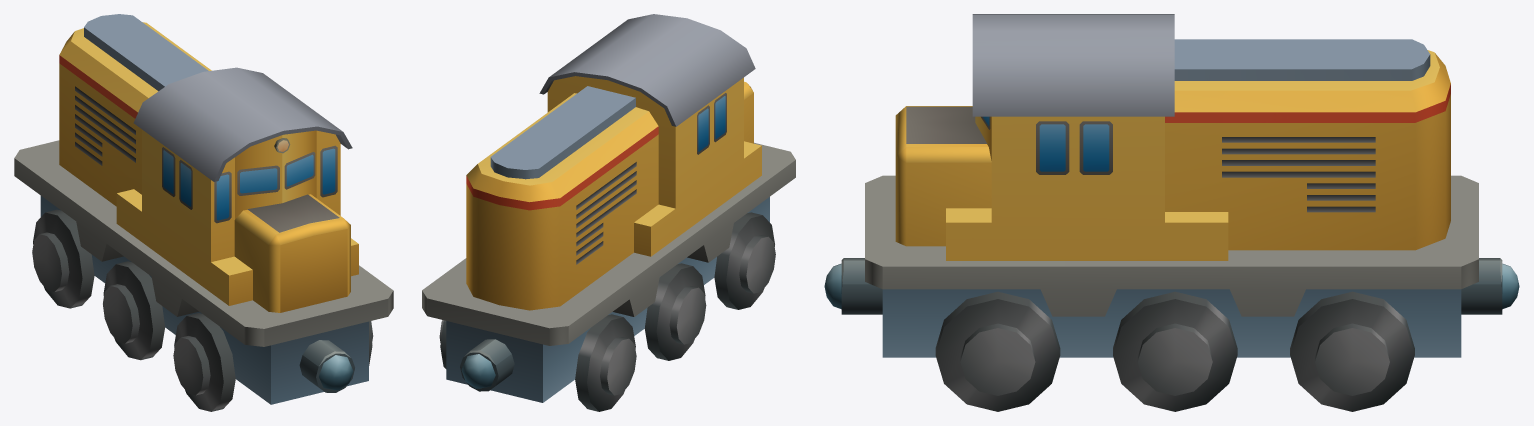
The model's file is Electric_Locomotive_C.fbx.
3 renders of one model, left to right at view 1: azimuth 30°, elevation 25°; view 2: azimuth 150°, elevation 25°; view 3: azimuth 270°, elevation 25°, orthographic. The views are drawn at different scales.
Parts seen in each view (by area): view 1: Electric_Locomotive_C; view 2: Electric_Locomotive_C; view 3: Electric_Locomotive_C.
Part boxes in pixels (x1,y1,x2,y2): Electric_Locomotive_C: (14, 14, 393, 411); Electric_Locomotive_C: (422, 14, 795, 411); Electric_Locomotive_C: (824, 14, 1519, 411).
Size of the model in its own units: 276 by 414 by 778.
